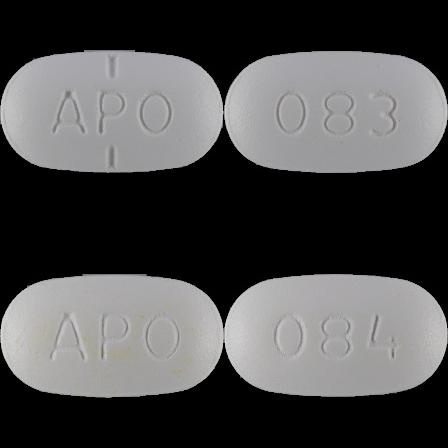0904-5677: (0, 0, 224, 224)
